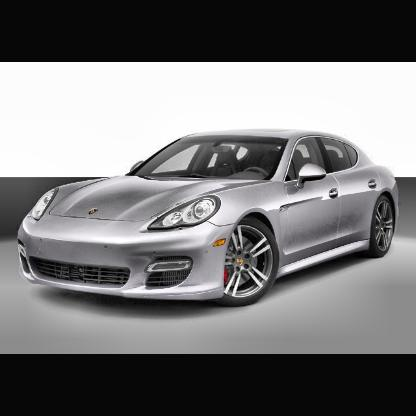Porsche Panamera Sedan 2012: (18, 128, 402, 310)
